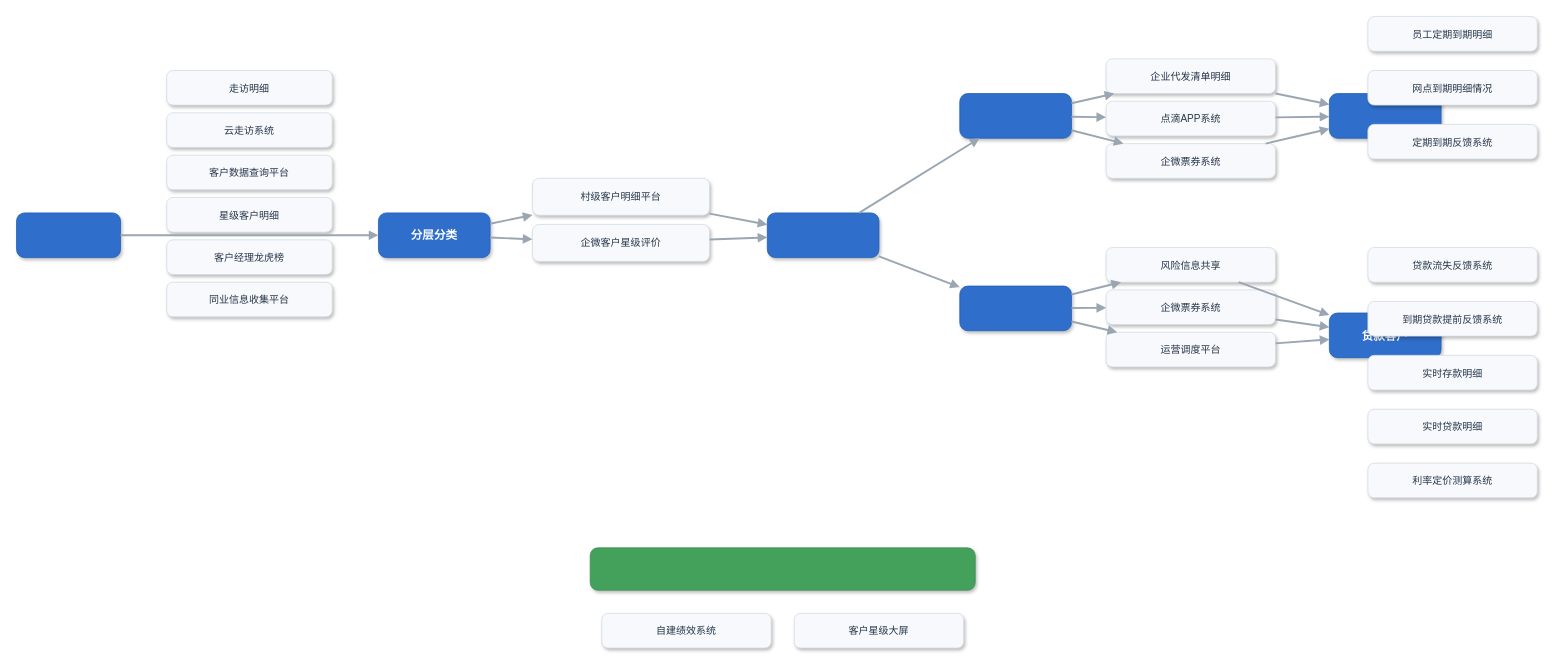
The diagram is 1555 pixels wide and 667 high, and some of its shapes have lost their labels. Here are the shapes that lost their labels. From the top down, the centre of each, then its label:
At pixel 1016 117: "存款策略".
At pixel 1386 117: "存款客户".
At pixel 69 236: "拓客策略".
At pixel 823 236: "客户分流".
At pixel 1016 309: "贷款策略".
At pixel 783 570: "考核支撑系统".
